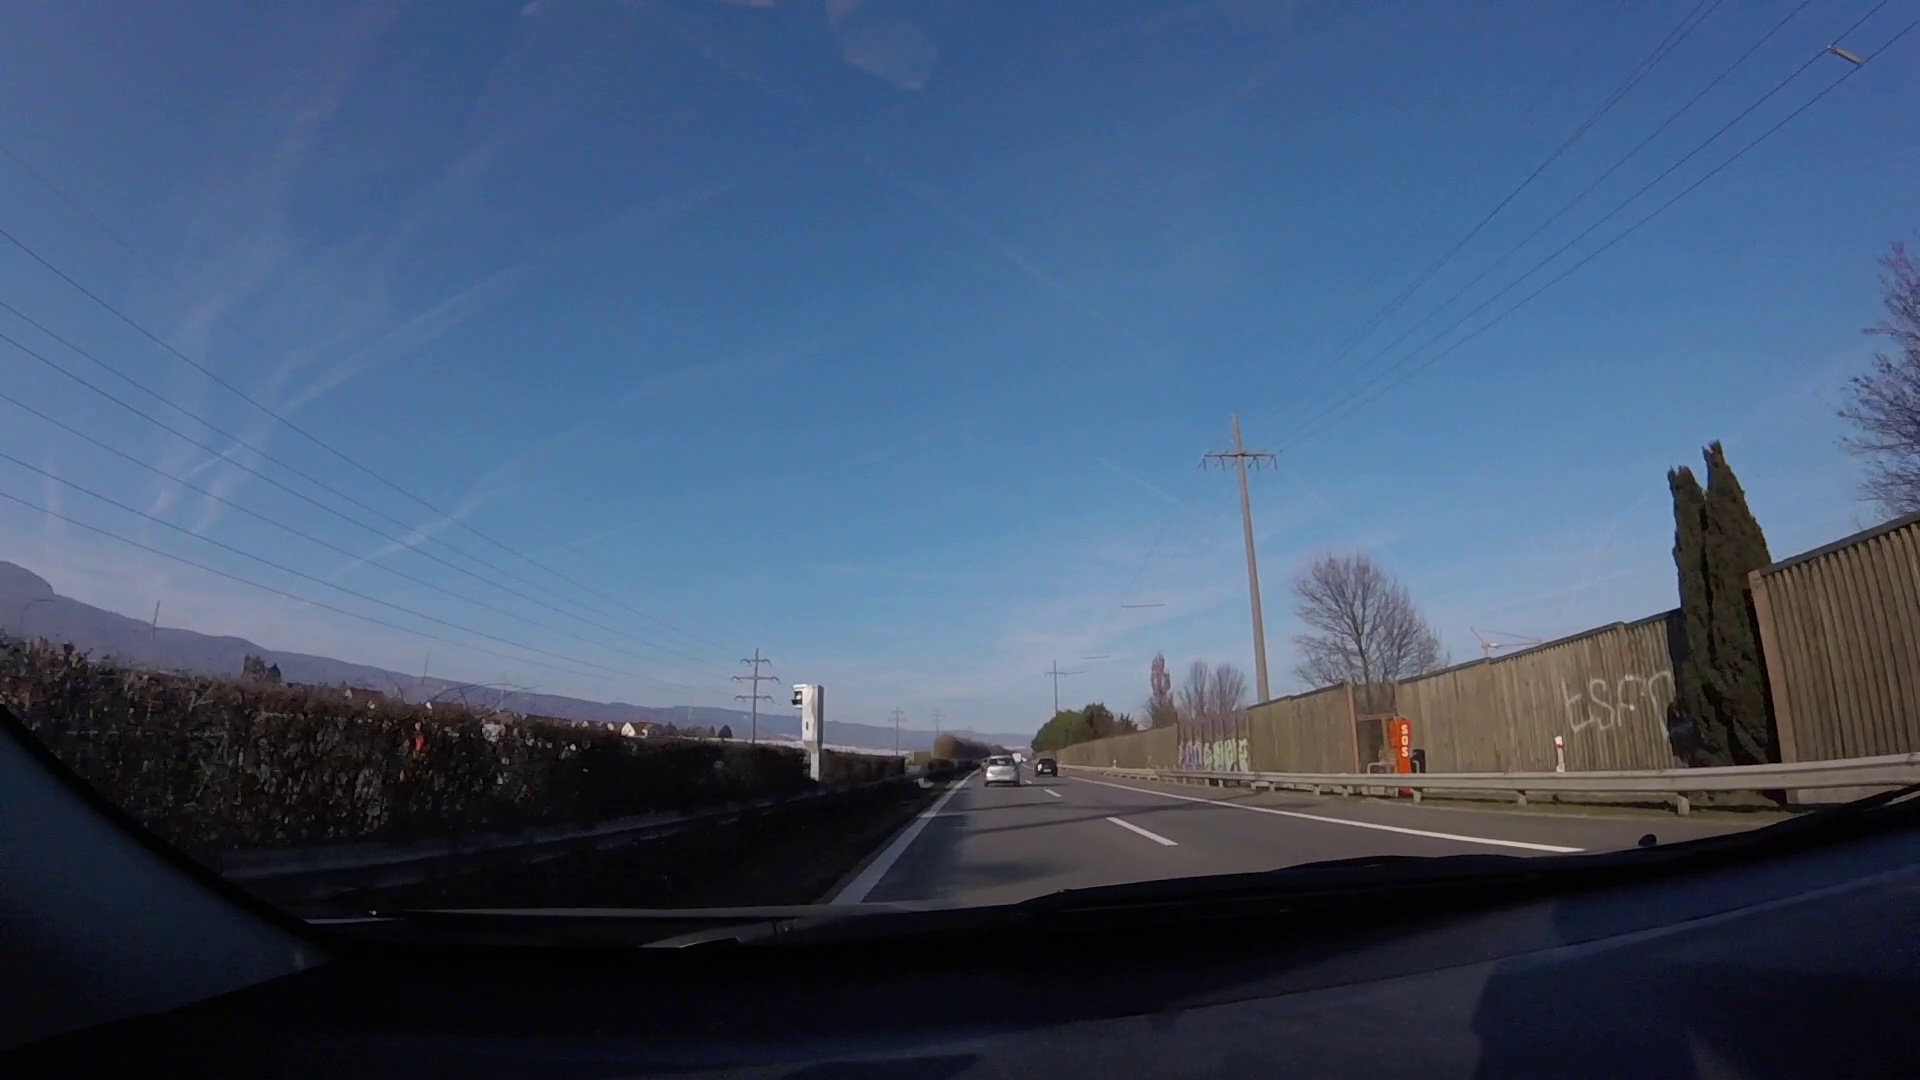radar: (789, 682, 829, 785)
